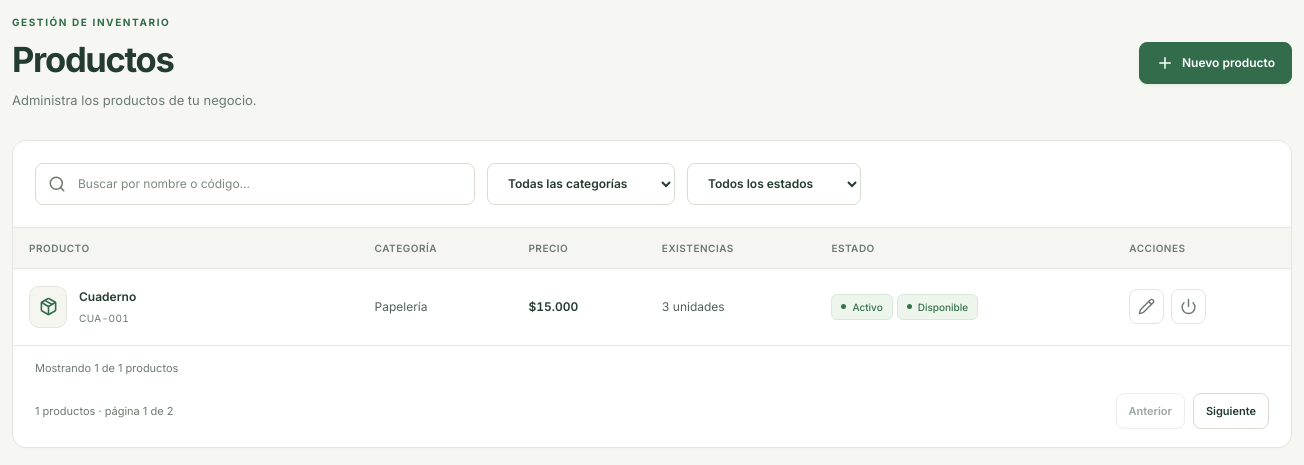
Test: paginación consulta la siguiente página
Expected: the text "Cuaderno" is shown, [79, 288, 136, 306]
Click the button "Siguiente" at (1231, 411), box [1193, 393, 1269, 429]
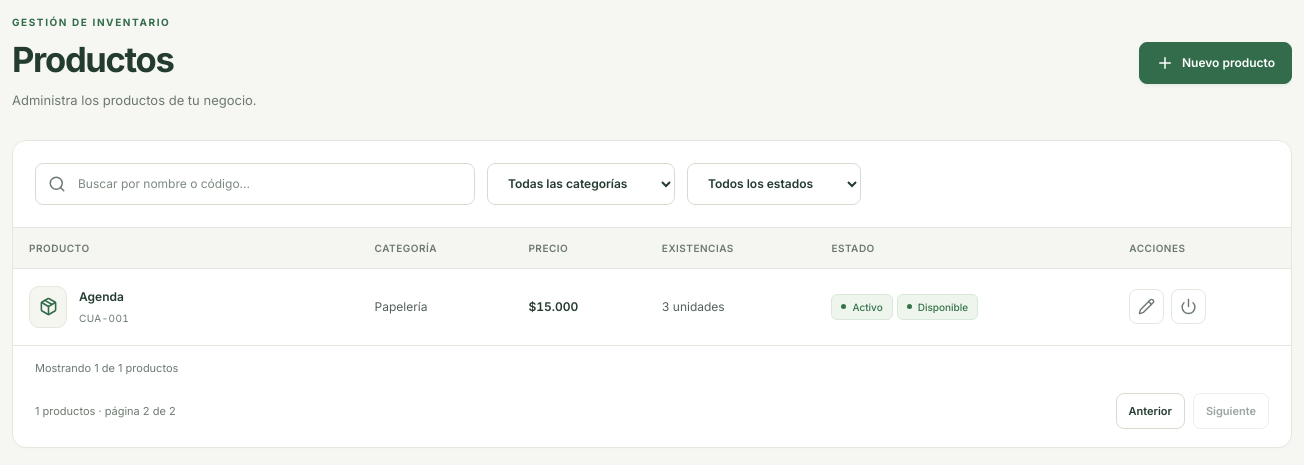
Result: the text "Agenda" is shown at [79, 288, 129, 306]
